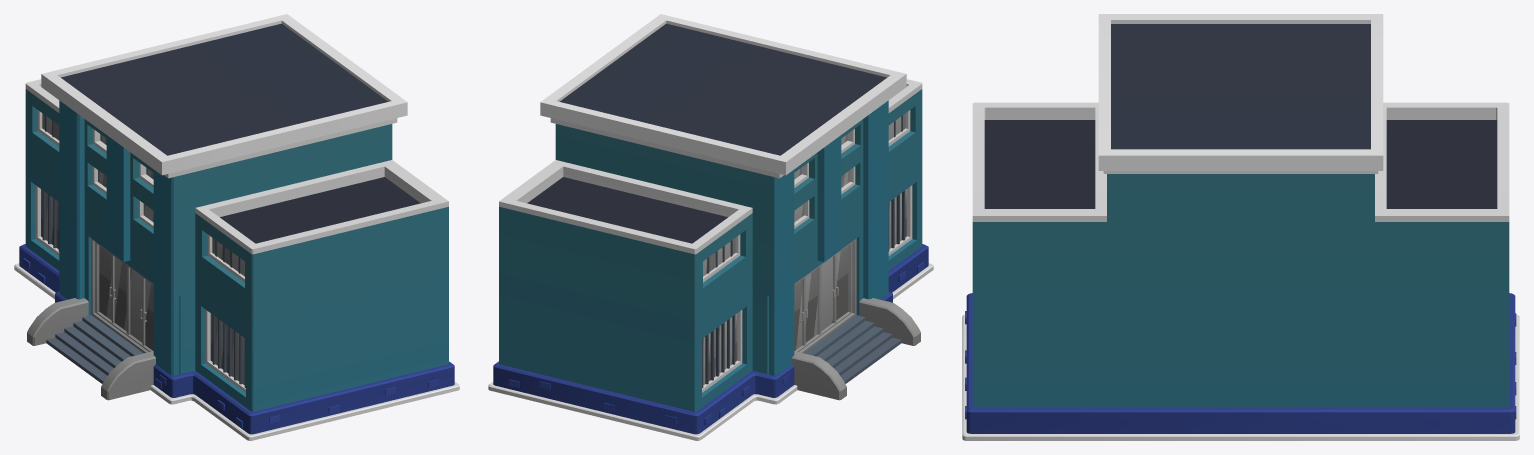
Rendered from Building_14_E.fbx.
3 renders of one model, left to right at view 1: azimuth 30°, elevation 25°; view 2: azimuth 150°, elevation 25°; view 3: azimuth 270°, elevation 25°, orthographic. The views are drawn at different scales.
Parts seen in each view (by area): view 1: Building_14_E; view 2: Building_14_E; view 3: Building_14_E.
Boxes of the visible parts, box(x1,y1,x2,y2) form: Building_14_E: box(14, 14, 459, 440); Building_14_E: box(488, 14, 933, 440); Building_14_E: box(962, 14, 1519, 440).
Size of the model in its own units: 908 by 755 by 1325.
